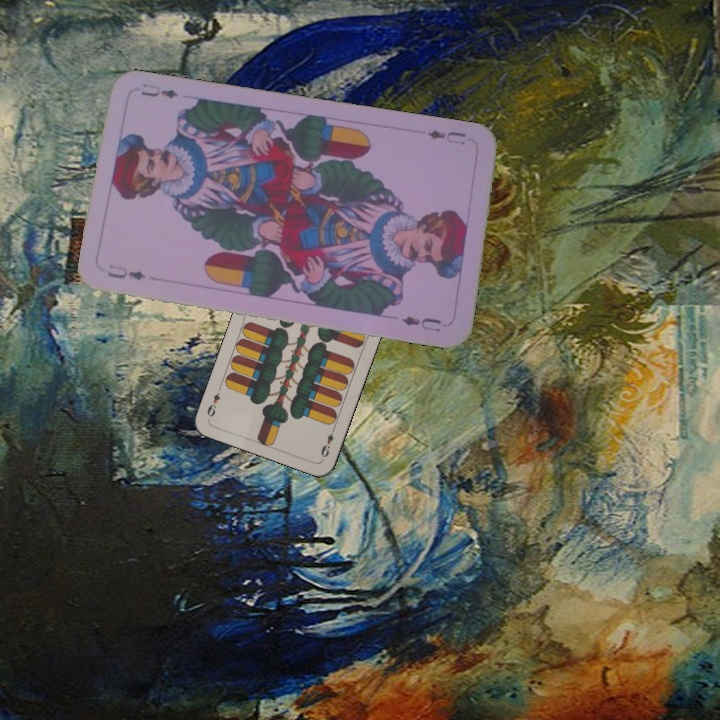E9: (317, 423, 338, 460)
EU: (423, 126, 468, 148), (104, 261, 149, 283)
